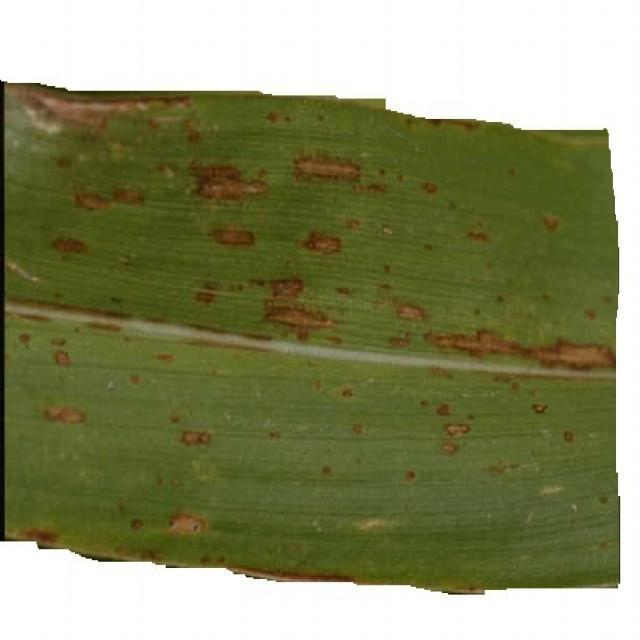Leafsmut: (192, 163, 271, 200), (266, 304, 332, 332), (292, 155, 362, 181), (546, 342, 612, 369), (467, 329, 522, 355), (192, 278, 238, 306), (26, 106, 65, 135), (210, 226, 256, 247), (6, 258, 42, 284), (168, 514, 206, 536), (268, 276, 304, 298), (484, 461, 533, 477), (74, 192, 113, 211), (352, 517, 396, 531), (52, 237, 88, 254), (111, 186, 145, 204), (310, 234, 341, 253), (86, 318, 122, 334), (179, 429, 210, 446), (55, 407, 85, 424), (396, 304, 424, 321), (34, 530, 58, 545), (541, 214, 560, 232), (195, 289, 216, 305), (430, 366, 454, 380), (466, 230, 490, 243), (538, 484, 563, 496), (445, 424, 468, 437), (53, 350, 71, 366), (364, 182, 388, 194), (158, 164, 176, 180), (118, 254, 137, 268), (186, 128, 202, 144), (389, 336, 410, 348), (441, 442, 458, 455), (436, 403, 452, 416), (344, 218, 361, 230), (421, 182, 438, 194), (18, 332, 32, 346), (266, 112, 282, 124), (351, 423, 365, 436), (154, 353, 174, 362), (562, 430, 576, 442), (130, 518, 144, 530), (532, 403, 547, 414), (129, 373, 142, 385), (584, 309, 598, 320), (312, 519, 323, 533), (404, 470, 416, 482), (169, 411, 181, 423), (336, 286, 352, 295), (50, 337, 66, 346), (525, 510, 535, 524), (320, 465, 332, 476), (341, 388, 354, 398), (382, 226, 394, 236), (268, 430, 280, 439), (598, 494, 608, 504), (106, 380, 116, 390), (223, 412, 232, 423), (424, 243, 434, 252), (570, 502, 578, 512)
